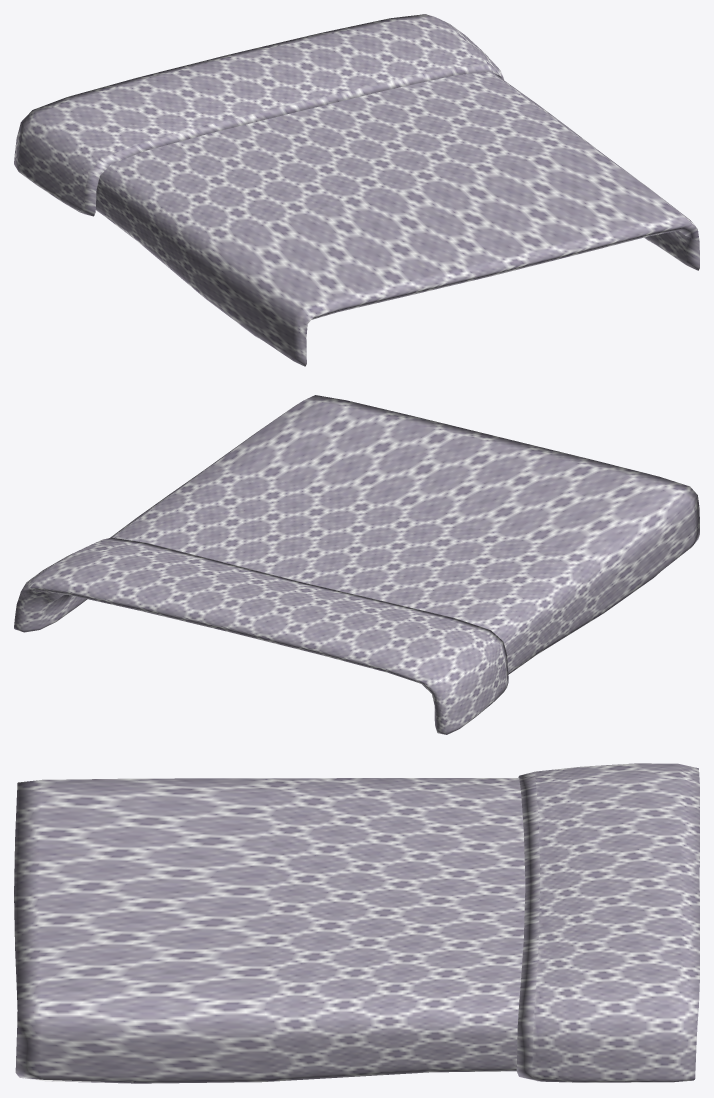
The model's file is bed_sheet Copper Grove Aanekoski2.fbx.
The picture shows the model from 3 angles, top to bottom: view 1: azimuth 30°, elevation 25°; view 2: azimuth 150°, elevation 25°; view 3: azimuth 270°, elevation 25°; orthographic projection. The views are drawn at different scales.
Parts seen in each view (by area): view 1: bed_sheet Copper Grove Aanekoski2; view 2: bed_sheet Copper Grove Aanekoski2; view 3: bed_sheet Copper Grove Aanekoski2.
Part boxes in pixels (bbox=[...]): bed_sheet Copper Grove Aanekoski2: bbox=[14, 14, 699, 366]; bed_sheet Copper Grove Aanekoski2: bbox=[14, 395, 699, 734]; bed_sheet Copper Grove Aanekoski2: bbox=[14, 763, 699, 1083].
Size of the model in its own units: 1.99 by 0.3156 by 2.15.
